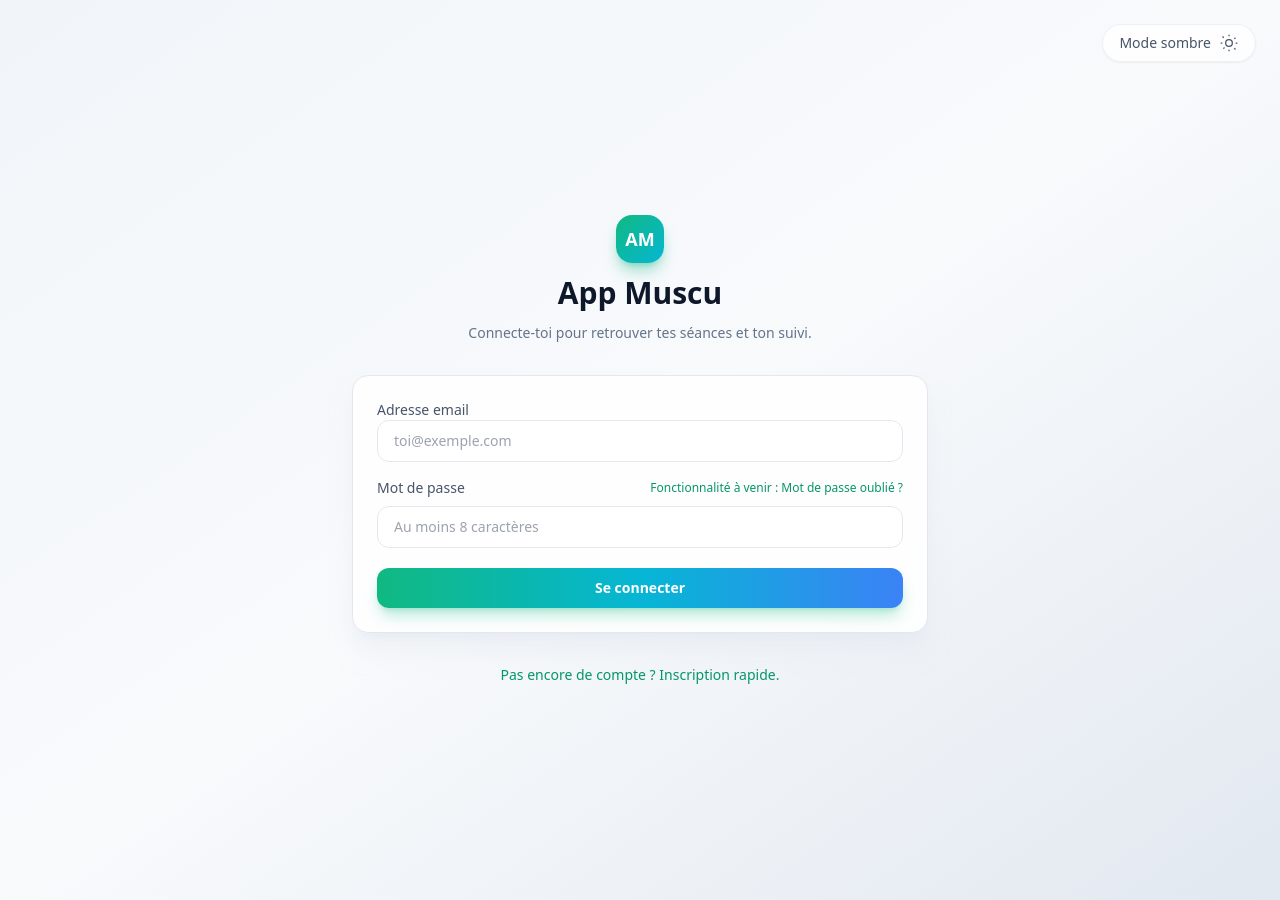
Test: LoginView › switches back to login from register
What coordinates should you click on to do the following:
click the button "Pas encore de compte ? Inscription rapide."
I would click on:
 (640, 674)
Its box is [500, 664, 779, 684].
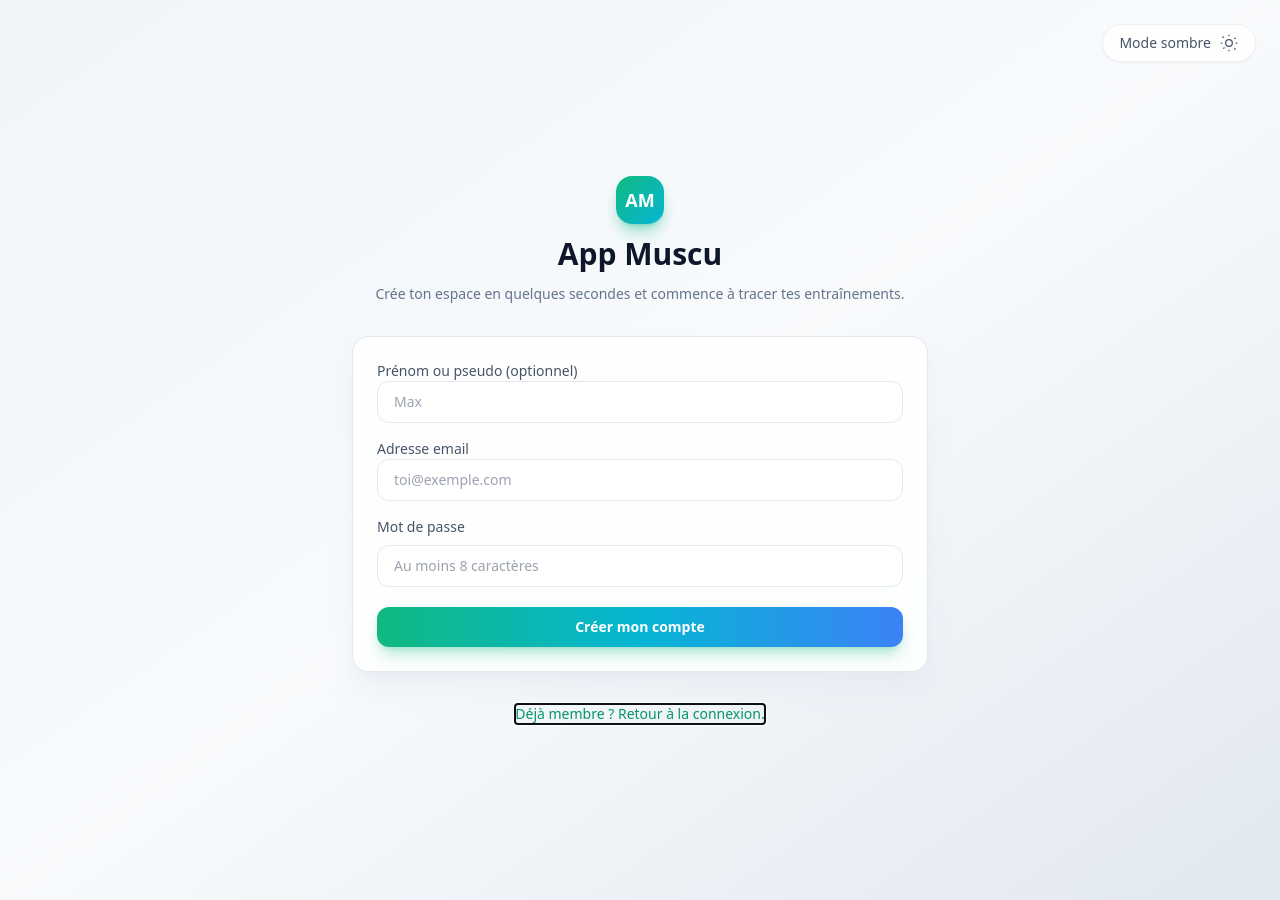
What coordinates should you click on to do the following:
click the button "Déjà membre ? Retour à la connexion."
I would click on:
 (640, 714)
Its box is [515, 704, 765, 724].
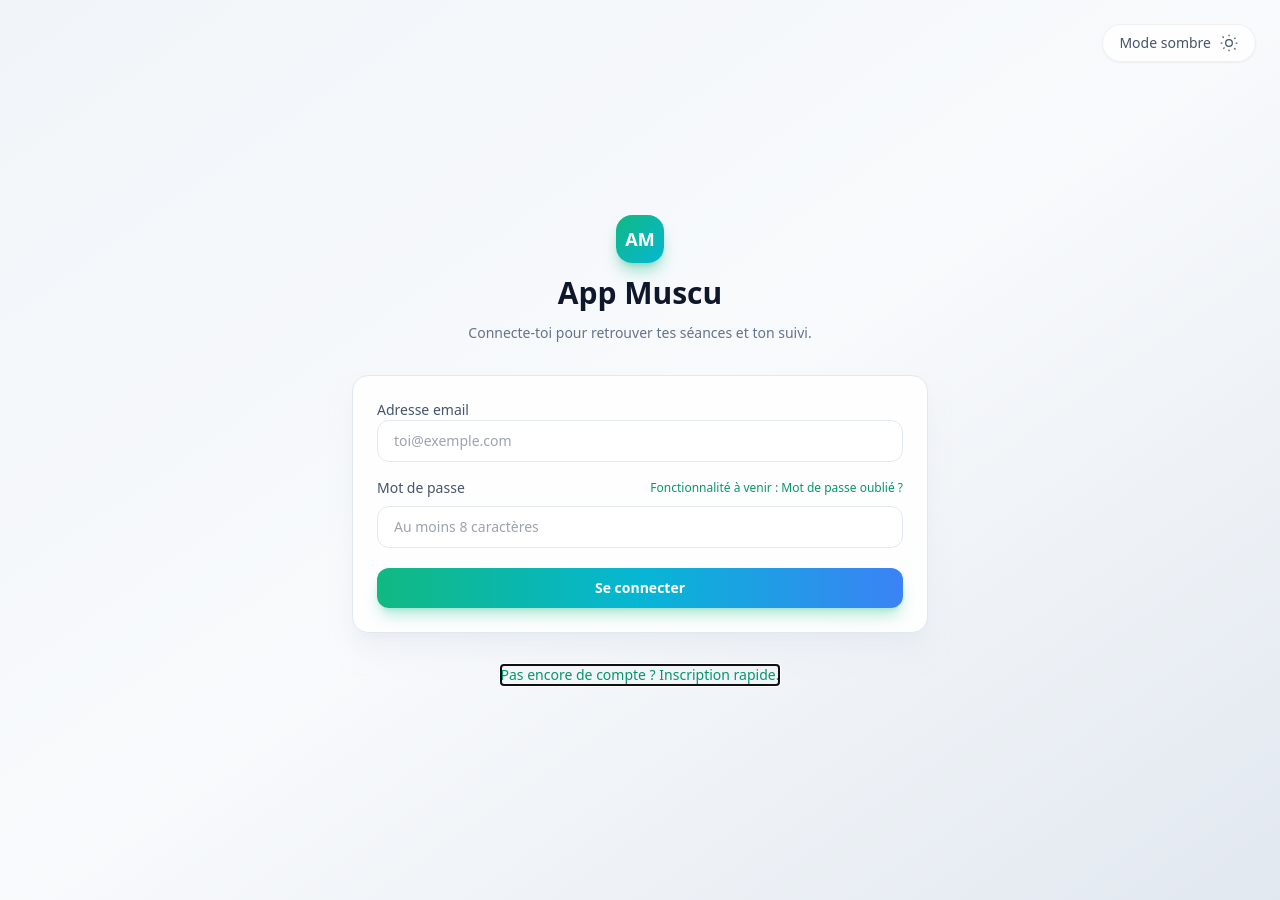
Now the button "Se connecter" is shown, box [377, 568, 903, 608]
